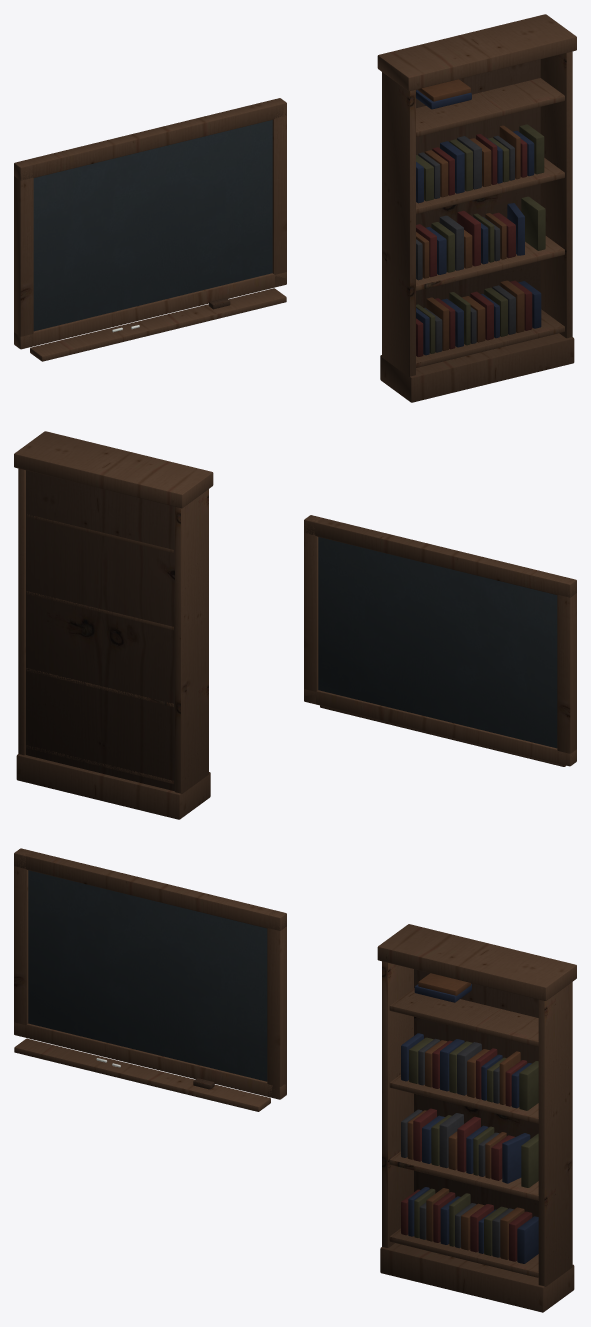
File: classroom_furniture.glb
3 views of the same model, one above another, from view 1: azimuth 30°, elevation 25°; view 2: azimuth 150°, elevation 25°; view 3: azimuth 330°, elevation 25° (orthographic).
Parts seen in each view (by area): view 1: Slate, ShelfSideL, ShelfCornice, ShelfBack, ShelfSideR, ShelfPlinth, FrameTop, ChalkTray, FrameBottom, Shelf3, FrameL, FrameR (+16 smaller); view 2: ShelfBack, Slate, ShelfSideL, ShelfCornice, FrameTop, ShelfPlinth, FrameBottom, FrameL, FrameR, ShelfSideR, ChalkTray, Shelf3 (+2 smaller); view 3: Slate, ShelfSideR, ShelfCornice, ShelfBack, ShelfSideL, ShelfPlinth, FrameTop, ChalkTray, FrameBottom, Shelf3, FrameR, FrameL (+12 smaller).
Part boxes in pixels (bbox=[...]): Slate: bbox=[33, 120, 272, 331]; ShelfSideL: bbox=[382, 72, 415, 376]; ShelfCornice: bbox=[377, 14, 576, 91]; ShelfBack: bbox=[416, 59, 540, 307]; ShelfSideR: bbox=[540, 51, 572, 338]; ShelfPlinth: bbox=[380, 333, 574, 402]; FrameTop: bbox=[14, 98, 286, 180]; ChalkTray: bbox=[30, 288, 286, 361]; FrameBottom: bbox=[14, 272, 286, 349]; Shelf3: bbox=[416, 78, 564, 136]; FrameL: bbox=[14, 160, 33, 347]; FrameR: bbox=[268, 98, 286, 286]; ShelfBack: bbox=[26, 470, 174, 791]; Slate: bbox=[318, 537, 557, 748]; ShelfSideL: bbox=[175, 489, 208, 793]; ShelfCornice: bbox=[14, 431, 213, 508]; FrameTop: bbox=[304, 515, 576, 597]; ShelfPlinth: bbox=[16, 754, 210, 819]; FrameBottom: bbox=[304, 689, 576, 766]; FrameL: bbox=[557, 577, 576, 761]; FrameR: bbox=[304, 515, 322, 703]; ShelfSideR: bbox=[18, 468, 25, 755]; ChalkTray: bbox=[320, 705, 565, 766]; Shelf3: bbox=[26, 514, 173, 553]; Slate: bbox=[28, 870, 267, 1081]; ShelfSideR: bbox=[538, 982, 572, 1286]; ShelfCornice: bbox=[377, 924, 576, 1000]; ShelfBack: bbox=[414, 969, 538, 1217]; ShelfSideL: bbox=[382, 961, 413, 1247]; ShelfPlinth: bbox=[380, 1243, 574, 1312]; FrameTop: bbox=[14, 848, 286, 930]; ChalkTray: bbox=[14, 1038, 270, 1111]; FrameBottom: bbox=[14, 1022, 286, 1099]; Shelf3: bbox=[389, 988, 538, 1046]; FrameR: bbox=[267, 910, 286, 1099]; FrameL: bbox=[14, 848, 31, 1035].
Size of the model in its own units: 4 by 2.29 by 0.4.
9 materials, 9 textured.
